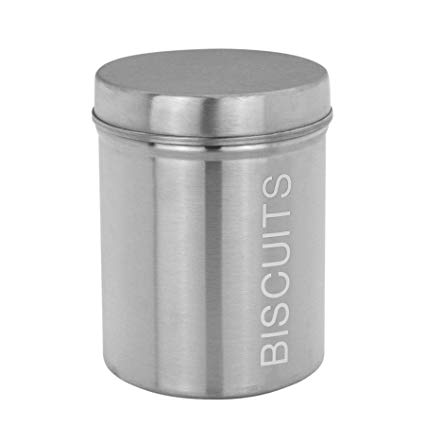metal: (91, 46, 334, 403)
